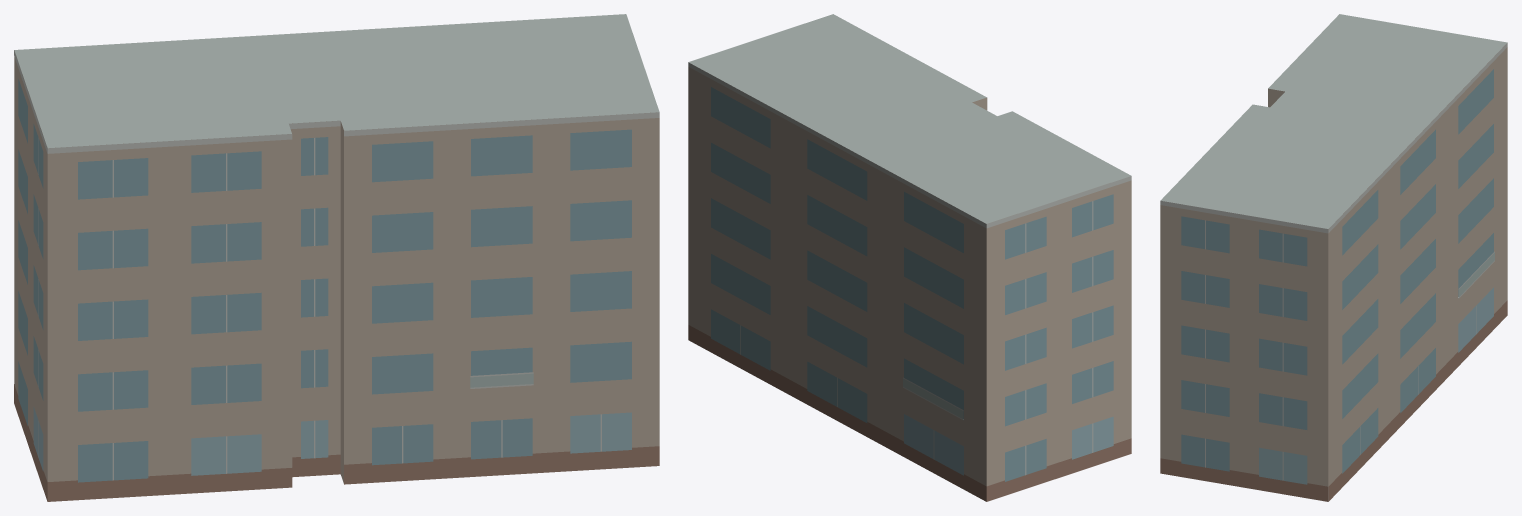
File: survey-upis-32990203.glb
3 renders of one model, left to right at view 1: azimuth 30°, elevation 25°; view 2: azimuth 150°, elevation 25°; view 3: azimuth 270°, elevation 25°, orthographic. The views are drawn at different scales.
Visible parts, largest first — view 1: survey-upis-32990203.tmp; view 2: survey-upis-32990203.tmp; view 3: survey-upis-32990203.tmp.
Part boxes in pixels (box(x1,y1,x2,y2)): survey-upis-32990203.tmp: box(14, 14, 659, 501); survey-upis-32990203.tmp: box(688, 14, 1131, 501); survey-upis-32990203.tmp: box(1160, 14, 1507, 501).
Bounding box in the file's own units: 25.8 × 15.25 × 17.6.
